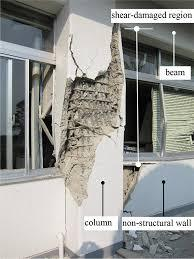spalling: (59, 27, 124, 205), (123, 167, 140, 204)
